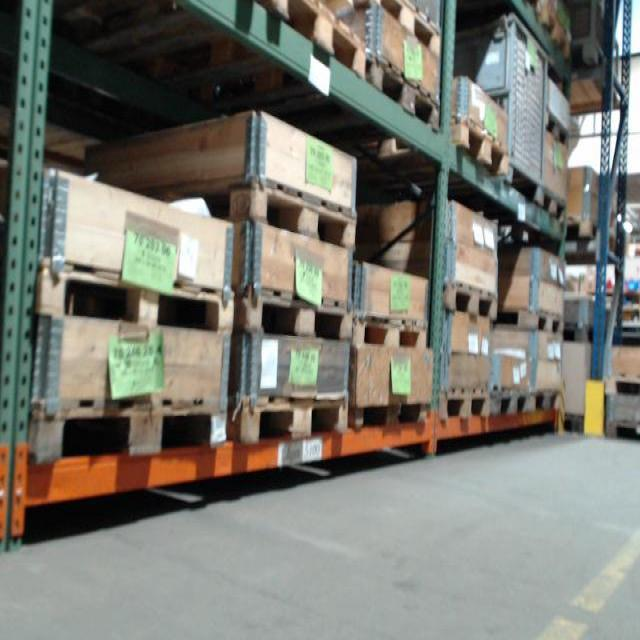pallet: (130, 2, 371, 84), (26, 251, 236, 333), (126, 176, 355, 251), (26, 396, 227, 458), (235, 285, 351, 345), (335, 2, 445, 62), (357, 61, 444, 132), (227, 392, 351, 440), (488, 2, 574, 58), (449, 122, 505, 189), (348, 397, 433, 439), (351, 312, 430, 351), (440, 275, 500, 320), (496, 304, 564, 339), (437, 389, 492, 428), (564, 222, 620, 259), (495, 386, 528, 420), (535, 190, 564, 225), (604, 419, 640, 446), (535, 382, 561, 419), (549, 107, 566, 151), (608, 375, 640, 398)
stillage: (436, 17, 550, 214), (561, 2, 626, 98)
